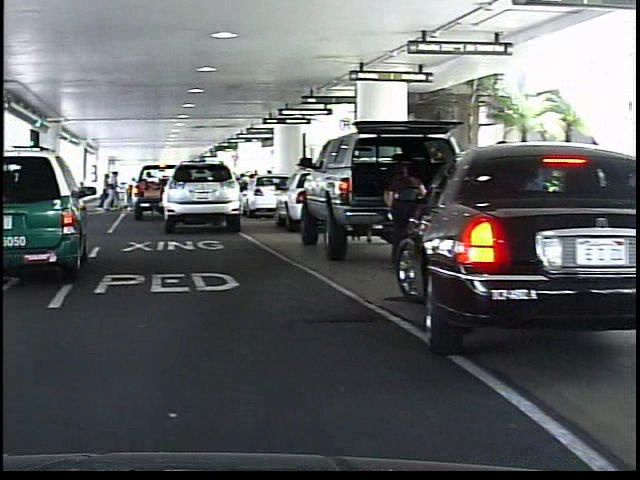person: (378, 153, 430, 266)
